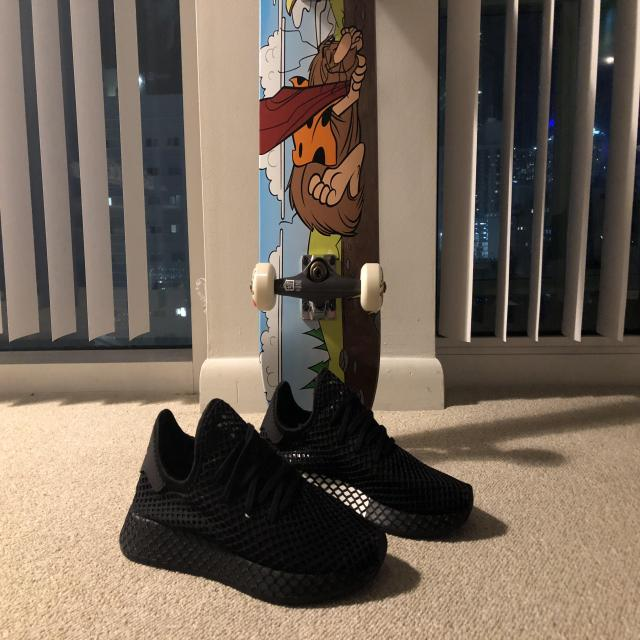shoe: (115, 383, 392, 614), (242, 360, 494, 544)
